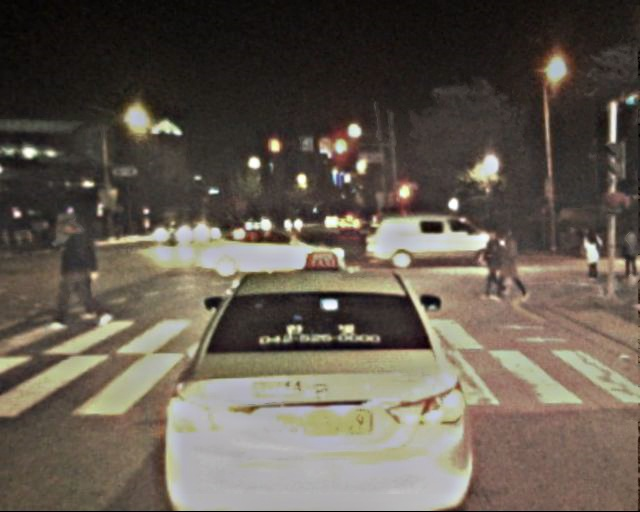person: (55, 214, 102, 329), (496, 232, 524, 300), (480, 234, 507, 300), (581, 227, 605, 286), (619, 226, 640, 282)
